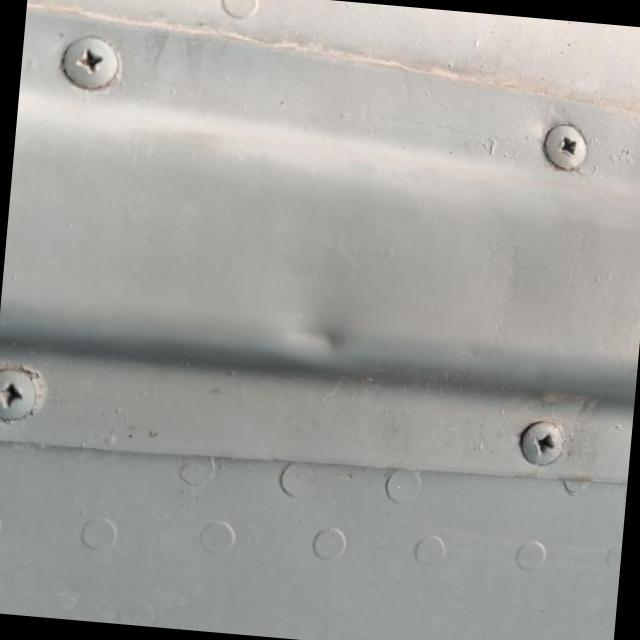Dent: (264, 326, 345, 367)
